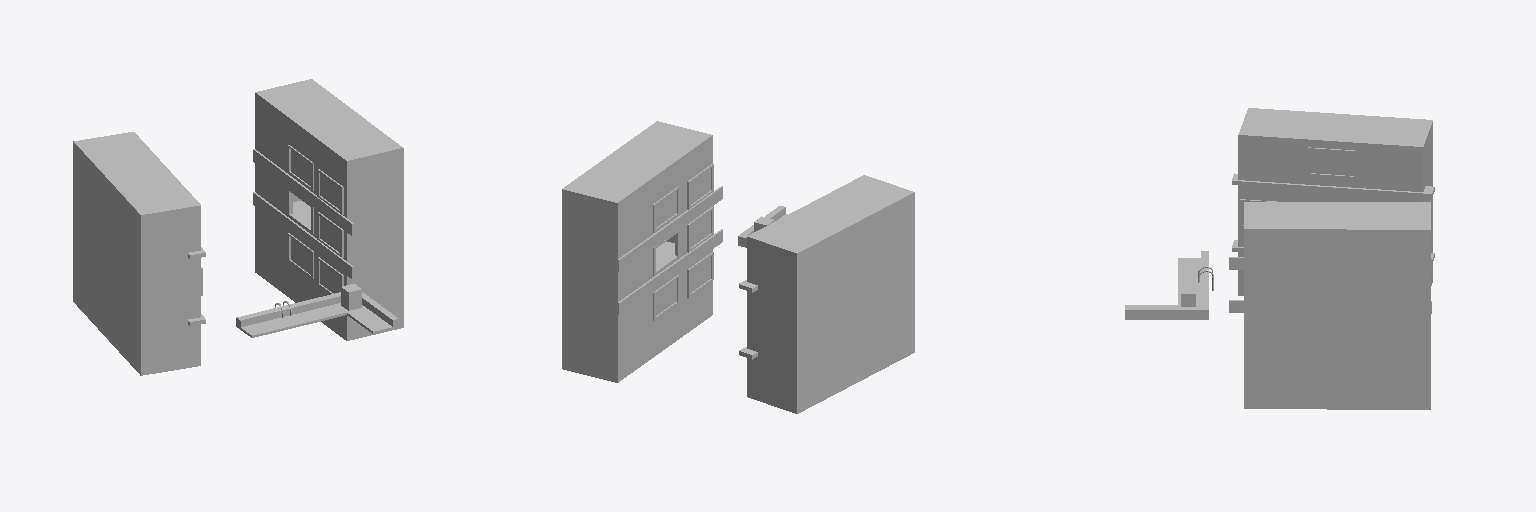
Rendered from Exterior_J2_Completo.obj.
3 renders of one model, left to right at view 1: azimuth 30°, elevation 25°; view 2: azimuth 150°, elevation 25°; view 3: azimuth 270°, elevation 25°, orthographic.
Parts seen in each view (by area): view 1: pCube229 predio_obserador, predio_assasino pCube234, pCube28 bancada, predio_assasino pCube242, predio_assasino pCube243; view 2: pCube229 predio_obserador, predio_assasino pCube234, predio_assasino pCube242, predio_assasino pCube243; view 3: predio_assasino pCube234, pCube229 predio_obserador, pCube28 bancada, predio_obserador pCube233.
Part boxes in pixels (left/top/right/bottom): pCube229 predio_obserador: left=73, top=132, right=200, bottom=375; predio_assasino pCube234: left=255, top=79, right=403, bottom=340; pCube28 bancada: left=236, top=292, right=398, bottom=337; predio_assasino pCube242: left=253, top=192, right=353, bottom=278; predio_assasino pCube243: left=253, top=149, right=353, bottom=235; pCube229 predio_obserador: left=747, top=175, right=914, bottom=413; predio_assasino pCube234: left=562, top=121, right=712, bottom=382; predio_assasino pCube242: left=618, top=229, right=722, bottom=314; predio_assasino pCube243: left=618, top=186, right=722, bottom=271; predio_assasino pCube234: left=1244, top=202, right=1430, bottom=409; pCube229 predio_obserador: left=1238, top=108, right=1432, bottom=295; pCube28 bancada: left=1125, top=251, right=1208, bottom=319; predio_obserador pCube233: left=1232, top=173, right=1434, bottom=197.
Bounding box in the file's own units: 1469 × 965 × 1503.